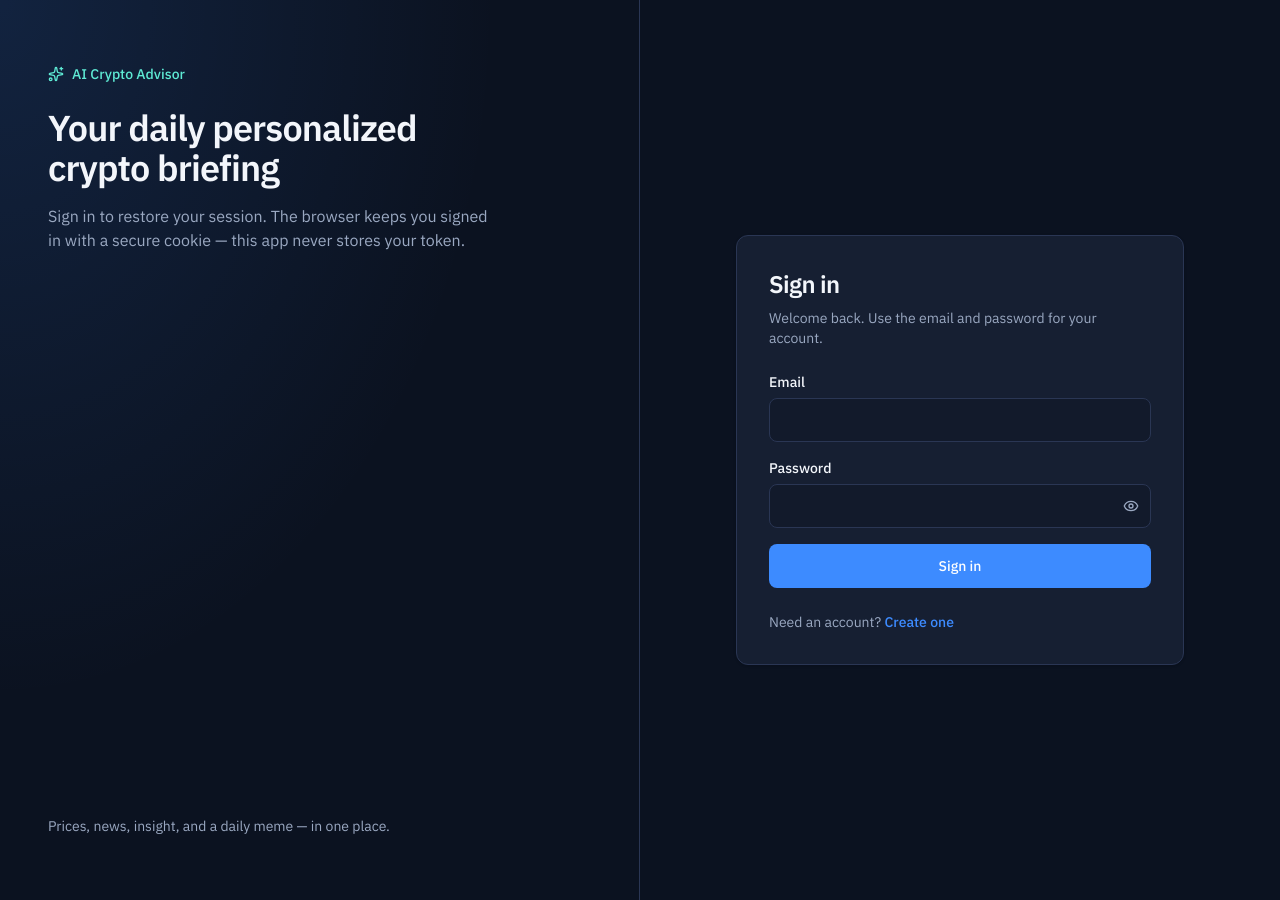
login › shows an error for wrong credentials
Expected: the heading "Sign in" is shown, top-left (769, 268), bottom-right (840, 300)
Type "ada@example.com" into the field labelled "Email".
click(960, 420); type("ada@example.com")  # box top-left (769, 398), bottom-right (1151, 442)
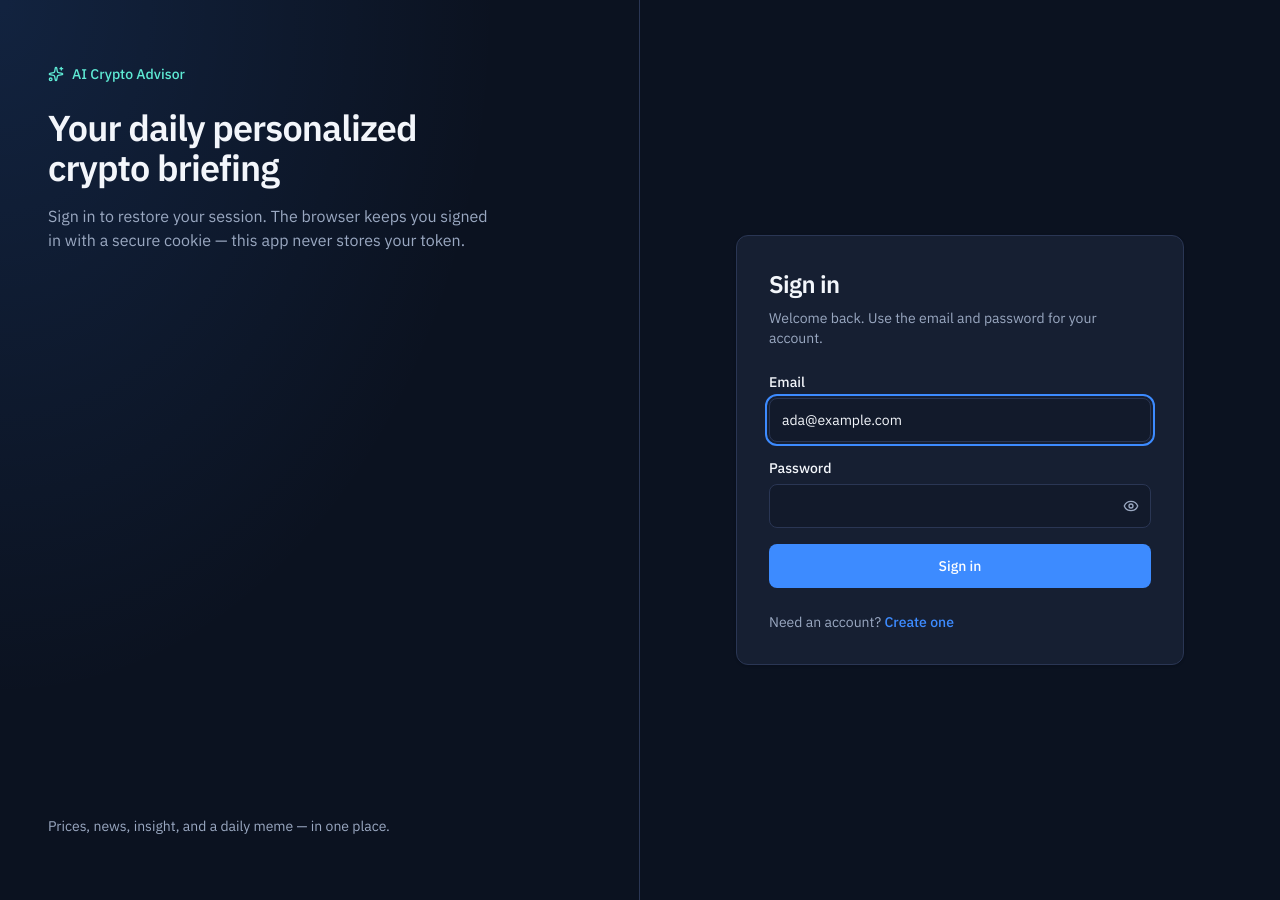
Type "wrong" into the password field labelled "Password".
click(960, 506); type("wrong")  # box top-left (769, 484), bottom-right (1151, 528)
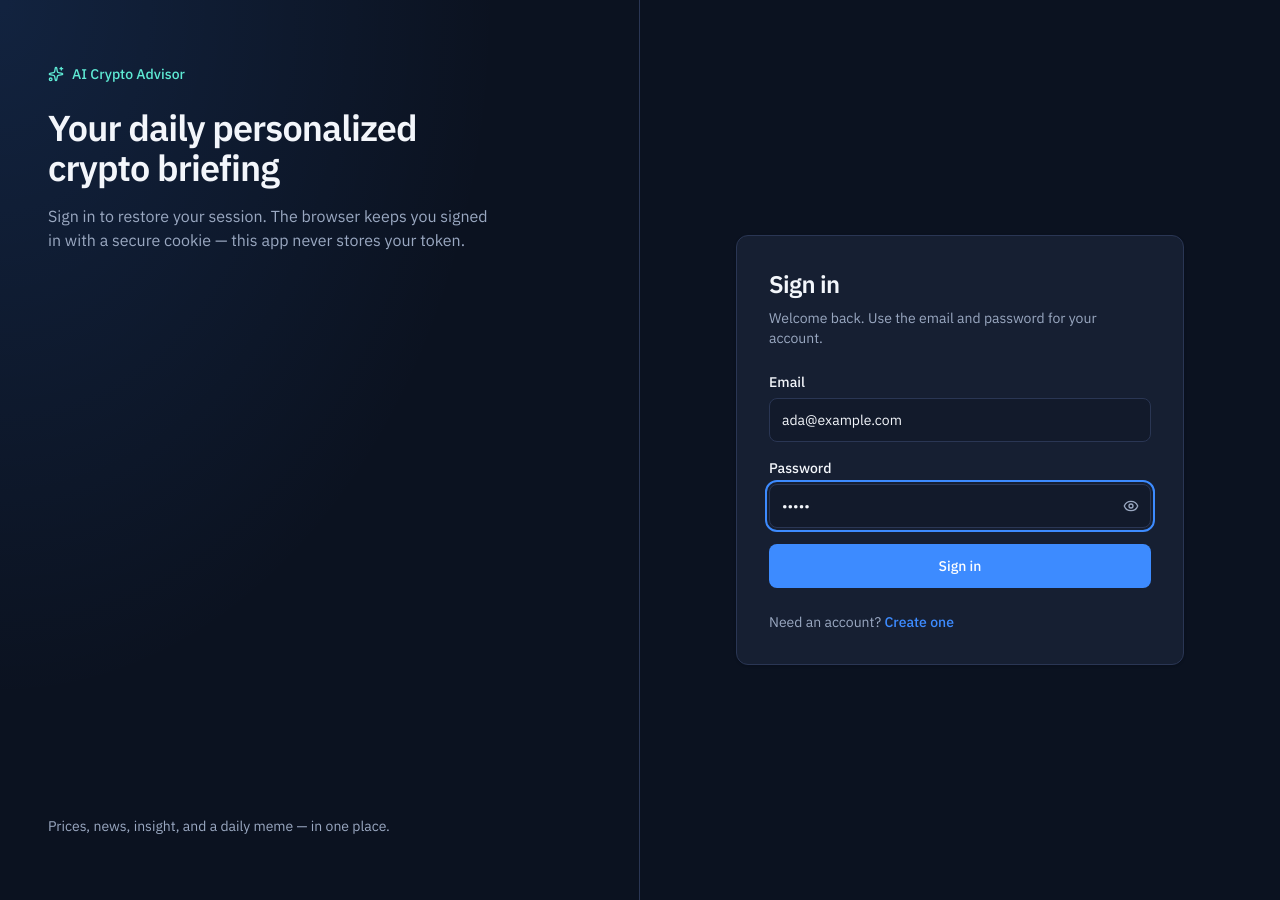
Click the button "Sign in".
click(960, 566)  # box top-left (769, 544), bottom-right (1151, 588)
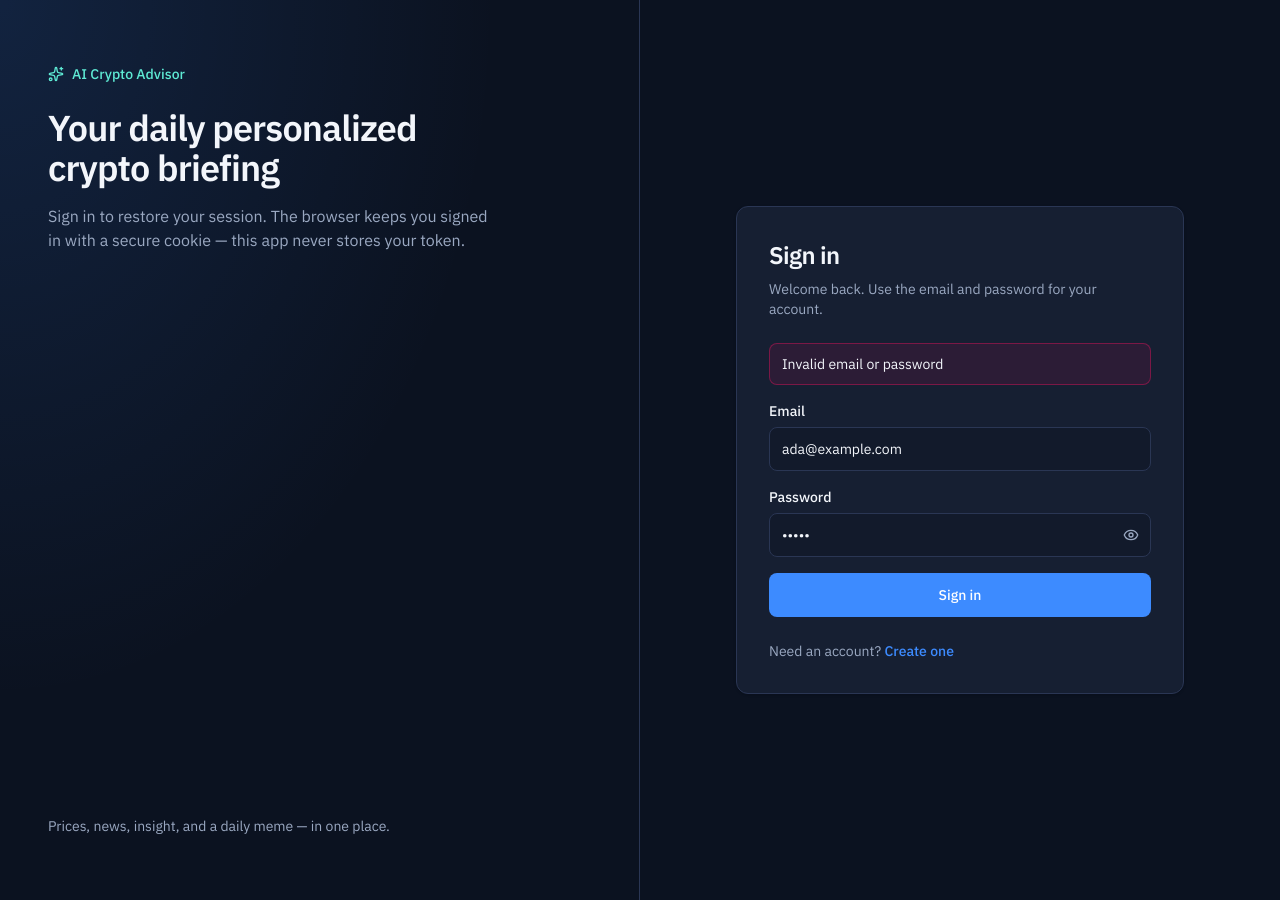
Expected: the heading "Sign in" is shown, top-left (769, 239), bottom-right (840, 271)
Expected: the message reads "Invalid email or password", top-left (782, 355), bottom-right (943, 373)
